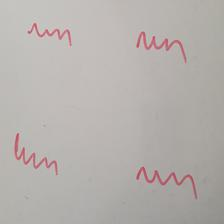ssNA: (136, 166, 198, 198), (14, 133, 59, 175), (137, 31, 187, 63), (28, 22, 73, 47)
